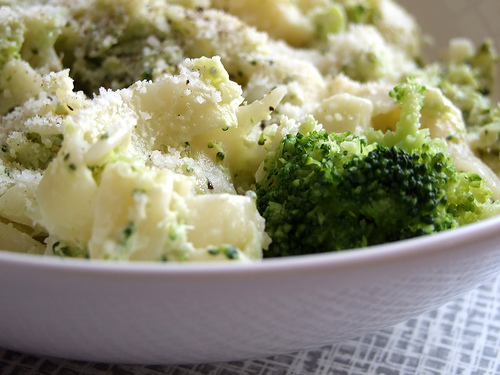broccoli: (252, 126, 486, 259)
